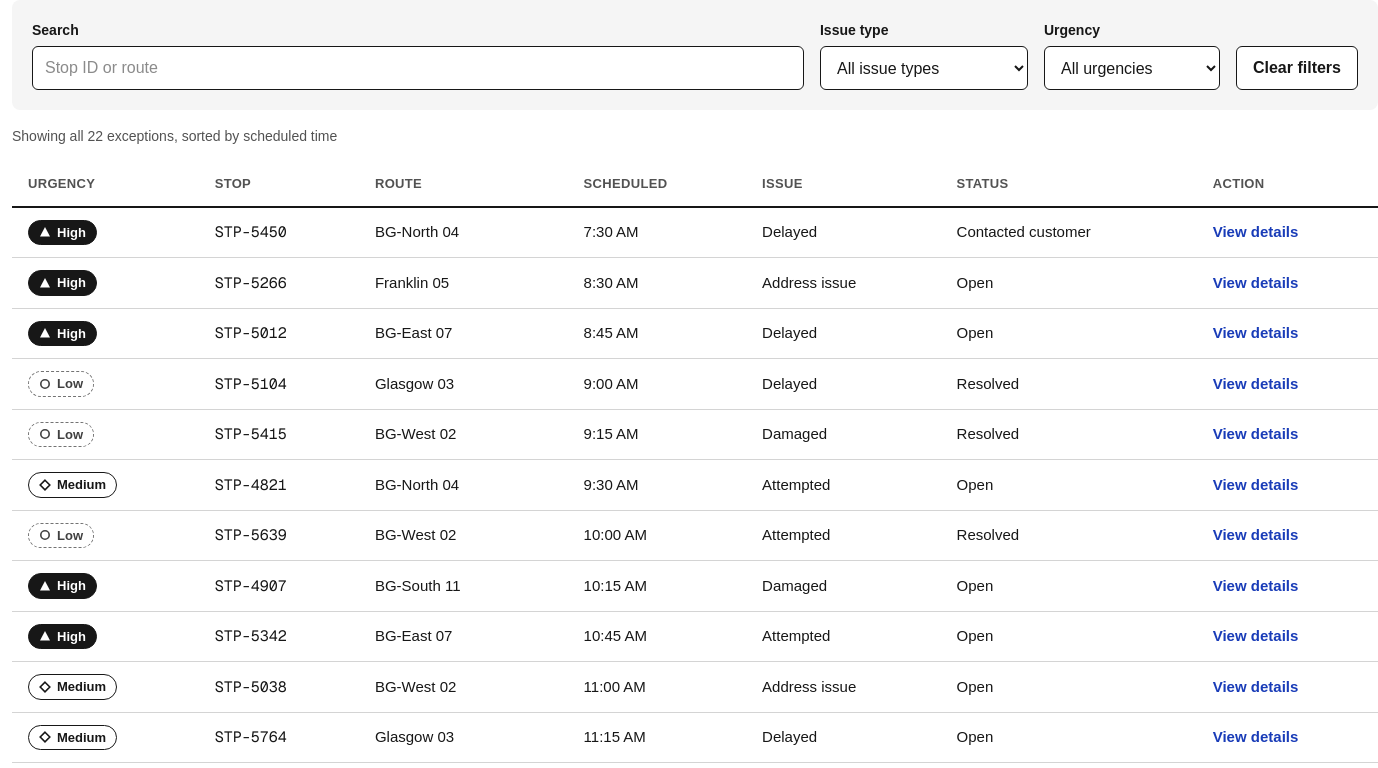
Scenario: ExceptionDashboard › narrows the list with filters and shows a no-matches state
Select "High" in the dropdown labelled "Urgency" at (1132, 68), box [1044,46,1220,90]
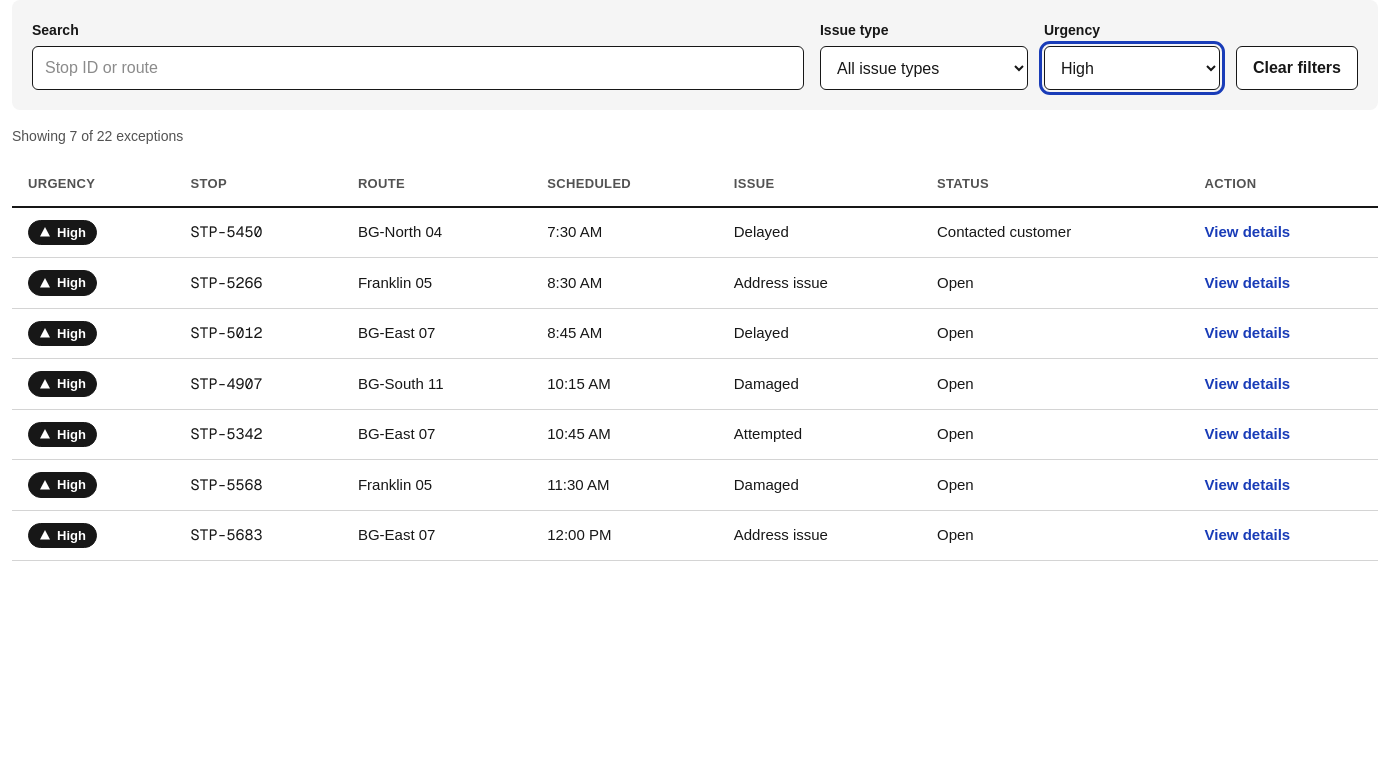
Select "Damaged" in the dropdown labelled "Issue type" at (924, 68), box [820,46,1028,90]
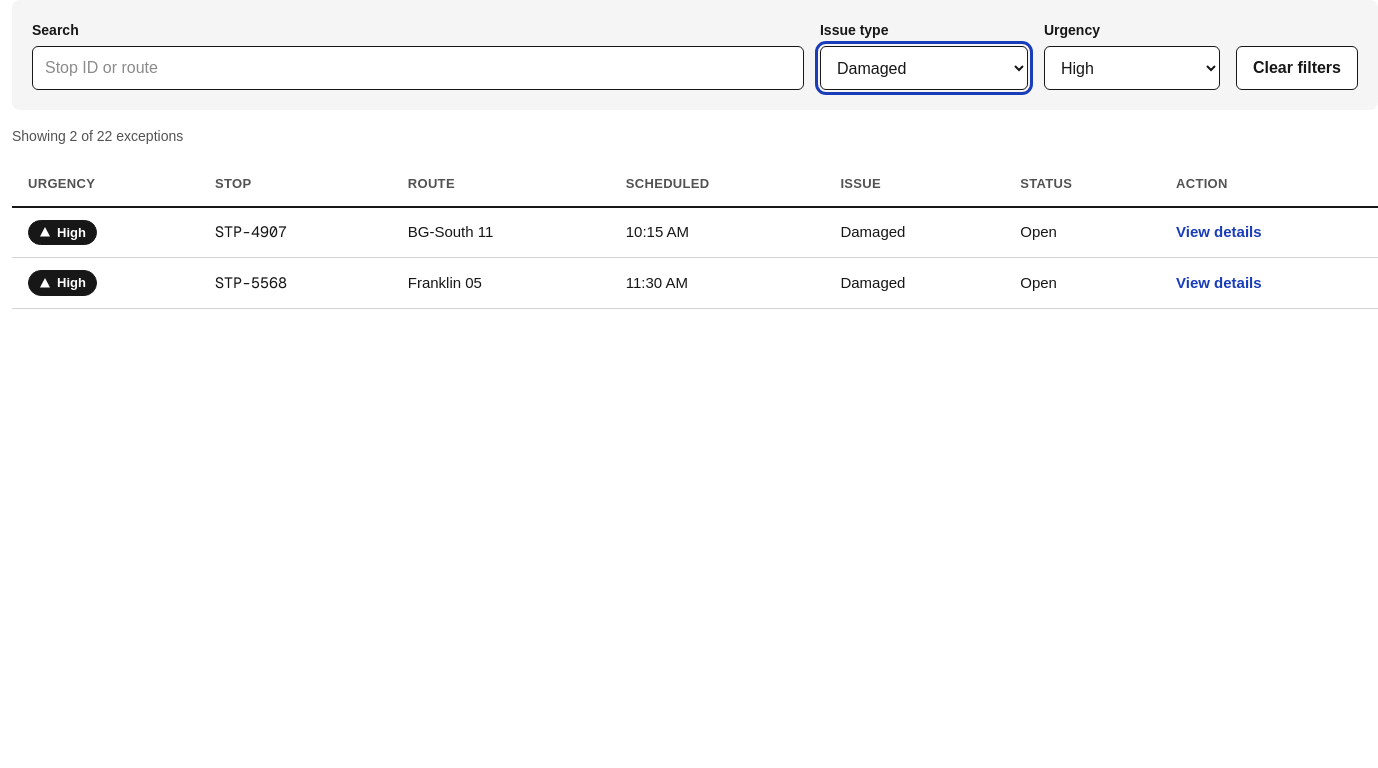
Expected: the text "STP-4907" is shown, [199,206,392,258]
Expected: the text "STP-5568" is shown, [199,258,392,308]
Type "zzz" into the search field labelled "Search" at (418, 68), box [32,46,804,90]
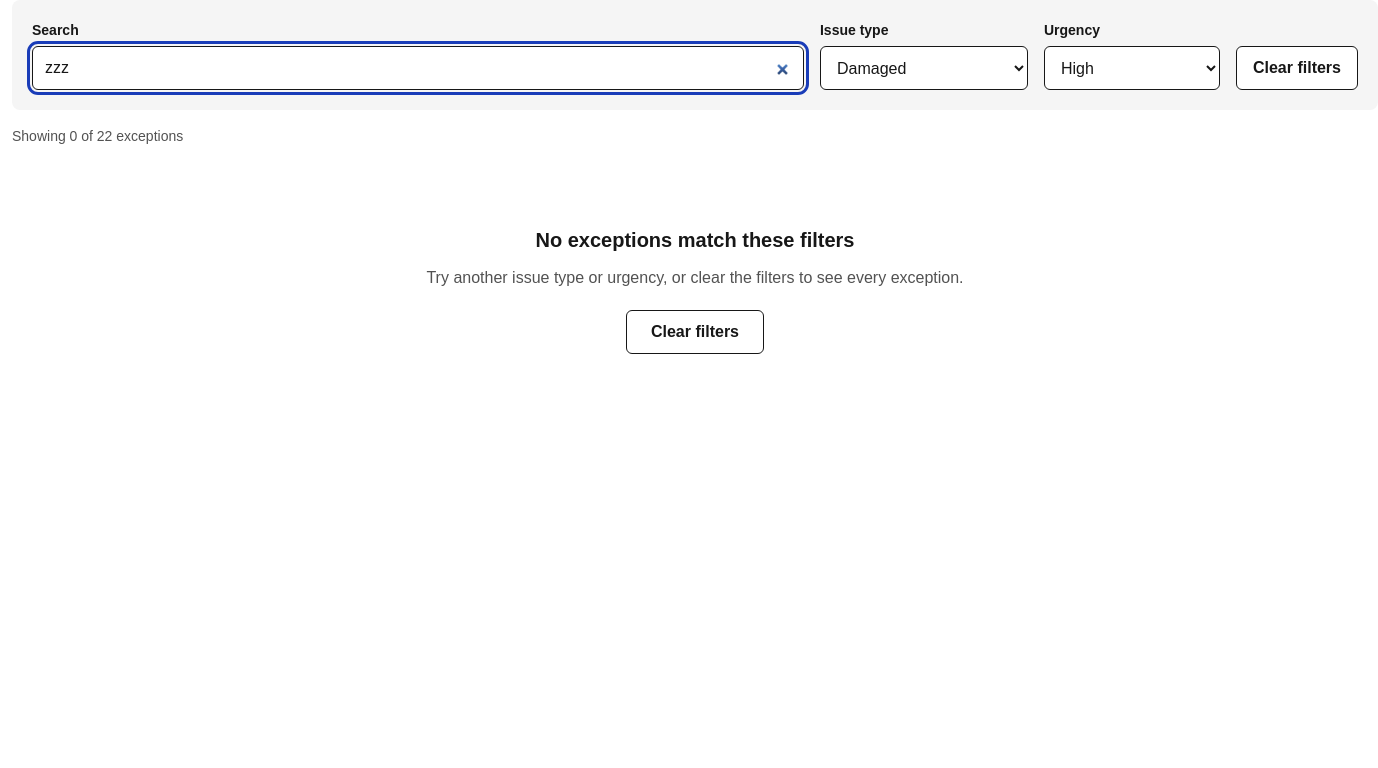
Expected: the heading "No exceptions match these filters" is shown, [536,226,854,254]
